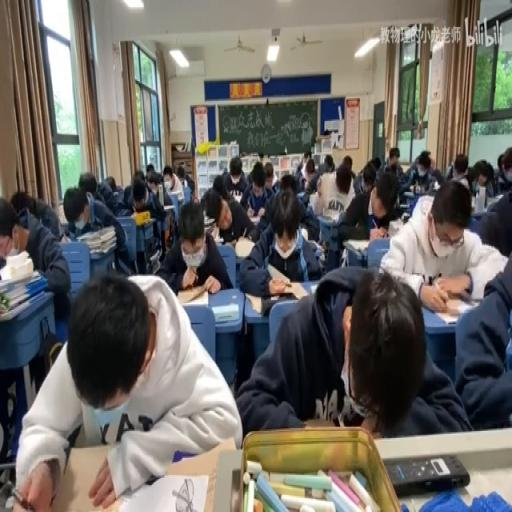calculator: (113, 469, 208, 512), (244, 280, 306, 314), (427, 294, 479, 324), (75, 224, 114, 242), (177, 287, 208, 306), (212, 302, 238, 324), (234, 236, 256, 258), (3, 248, 30, 264), (306, 236, 325, 258), (53, 199, 67, 226), (344, 239, 370, 253), (387, 218, 406, 236), (485, 192, 502, 212), (202, 216, 216, 238), (132, 209, 150, 226), (148, 248, 160, 272), (90, 246, 115, 257), (322, 206, 339, 222), (396, 198, 410, 216), (210, 232, 226, 244), (295, 189, 307, 202), (248, 212, 262, 222), (157, 184, 163, 206), (59, 232, 70, 243), (402, 189, 414, 198), (164, 212, 170, 230), (309, 283, 318, 294), (164, 204, 174, 210)
paper: (18, 267, 237, 512), (233, 262, 462, 434), (378, 176, 504, 309), (1, 192, 70, 317), (157, 198, 232, 294), (63, 180, 133, 278), (335, 166, 387, 248), (262, 174, 320, 243), (126, 176, 168, 262), (399, 148, 440, 196), (221, 154, 248, 202), (444, 151, 474, 185), (292, 156, 317, 194), (10, 189, 35, 219), (494, 151, 512, 192), (175, 164, 195, 196), (309, 179, 325, 215), (78, 170, 98, 196), (385, 148, 403, 176), (471, 161, 490, 186), (251, 162, 266, 188), (278, 172, 297, 192), (362, 164, 375, 192), (122, 182, 134, 212), (211, 174, 225, 196), (132, 192, 145, 209), (371, 155, 382, 172), (324, 154, 334, 172), (132, 168, 144, 182), (105, 174, 116, 189), (147, 180, 158, 194), (265, 170, 272, 186), (162, 175, 172, 186), (344, 155, 352, 168), (258, 149, 266, 162), (146, 162, 154, 174), (302, 151, 310, 162), (429, 155, 435, 169)
person: (386, 452, 470, 494)
